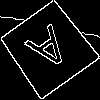A: (23, 24, 78, 82)
